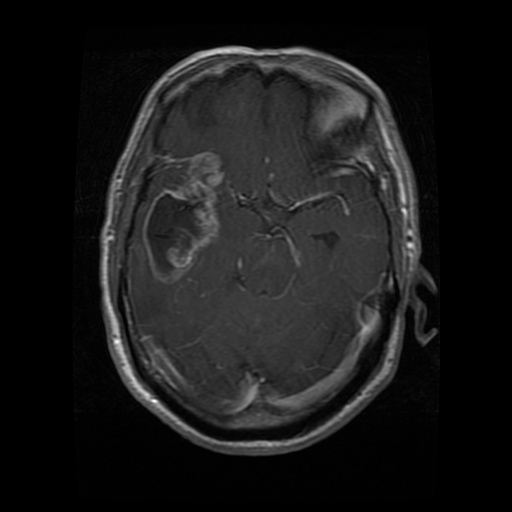glioma: (140, 150, 228, 285)
